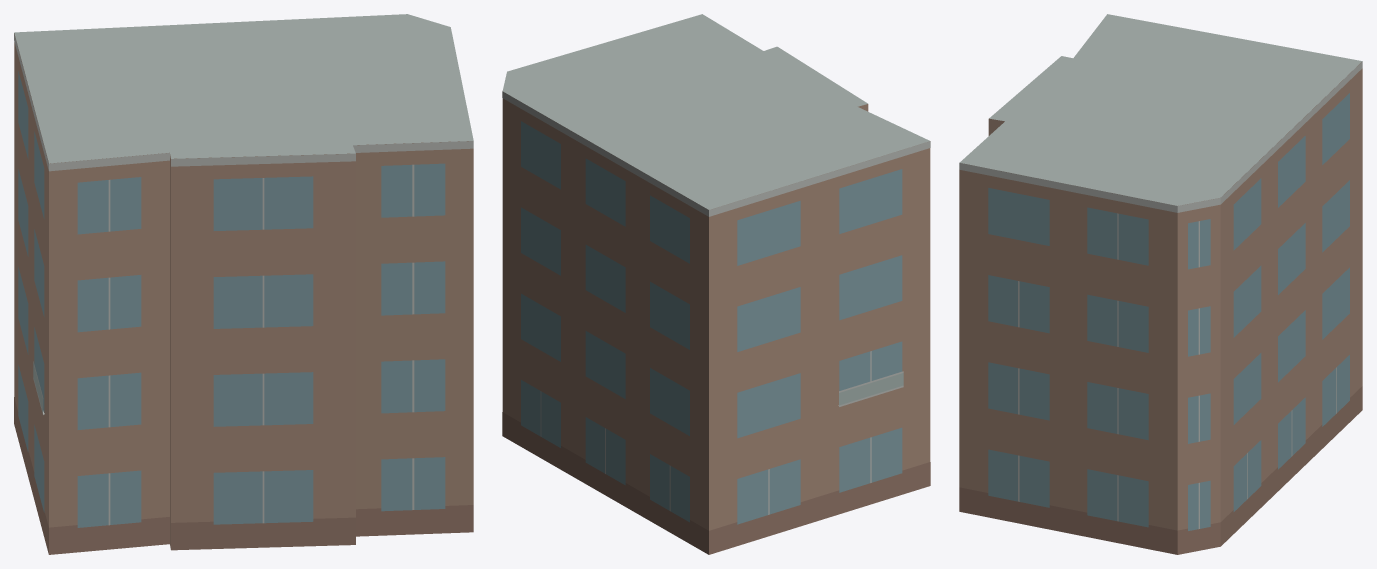
Rendered from survey-upis-32778739.glb.
3 renders of one model, left to right at view 1: azimuth 30°, elevation 25°; view 2: azimuth 150°, elevation 25°; view 3: azimuth 270°, elevation 25°, orthographic. The views are drawn at different scales.
Visible parts, largest first — view 1: survey-upis-32778739.tmp; view 2: survey-upis-32778739.tmp; view 3: survey-upis-32778739.tmp.
Boxes of the visible parts, <box> form: survey-upis-32778739.tmp: <box>14,14,473,554</box>; survey-upis-32778739.tmp: <box>502,14,930,554</box>; survey-upis-32778739.tmp: <box>959,14,1362,554</box>.
Bounding box in the file's own units: 14.4 × 12.2 × 12.78.
